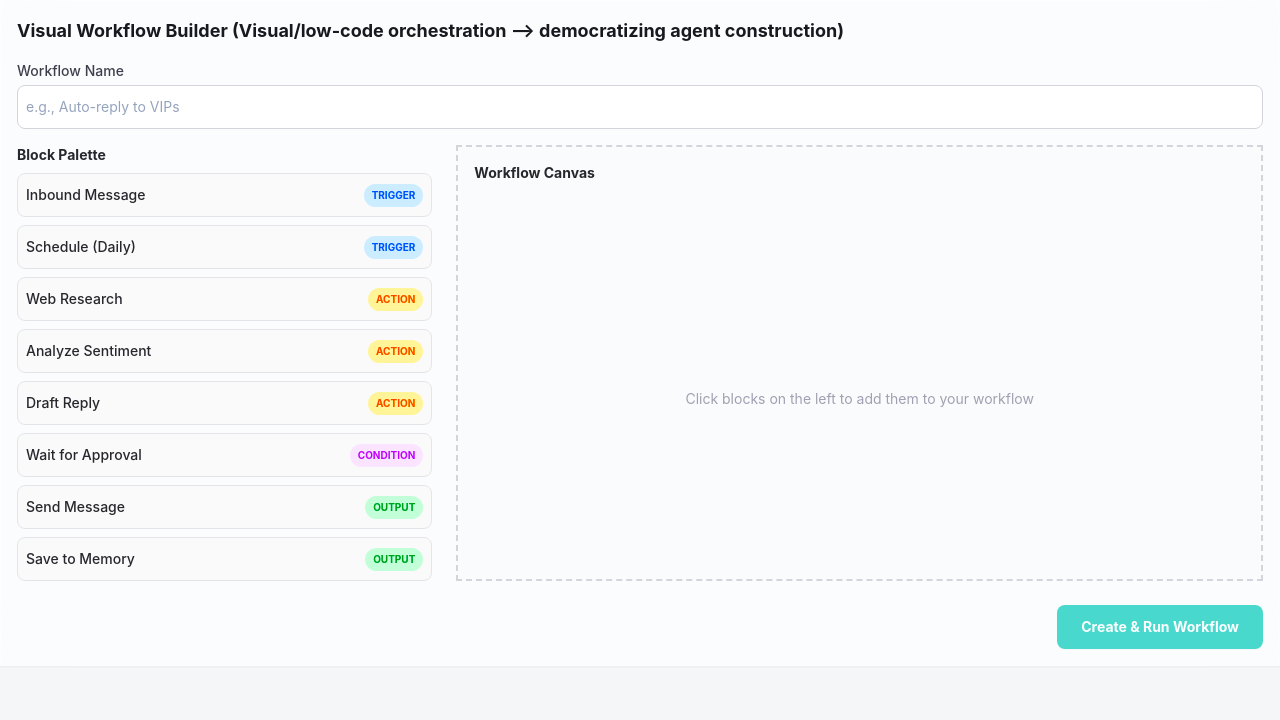
renders builder and allows adding/removing blocks
Later steps or results of the test are not shown.
Check: the text "Click blocks on the left to add them to your workflow" is shown, box [685,390,1034,407]
# Type workflow name
Type "My Workflow" into the field with placeholder "e.g., Auto-reply to VIPs" at coordinates (640, 107), box [17,85,1263,129]
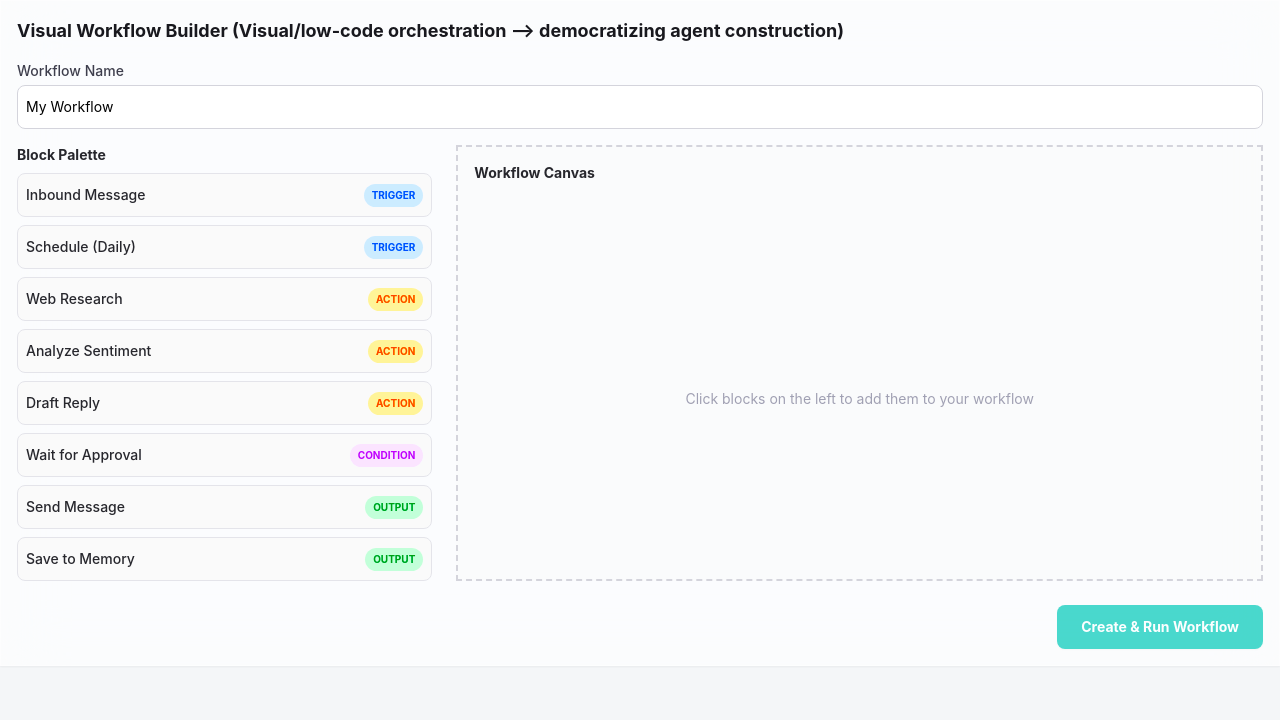
# Click palette blocks
Click the button with test id "palette-block-trigger_message" at coordinates (86, 194), box [17,173,432,217]
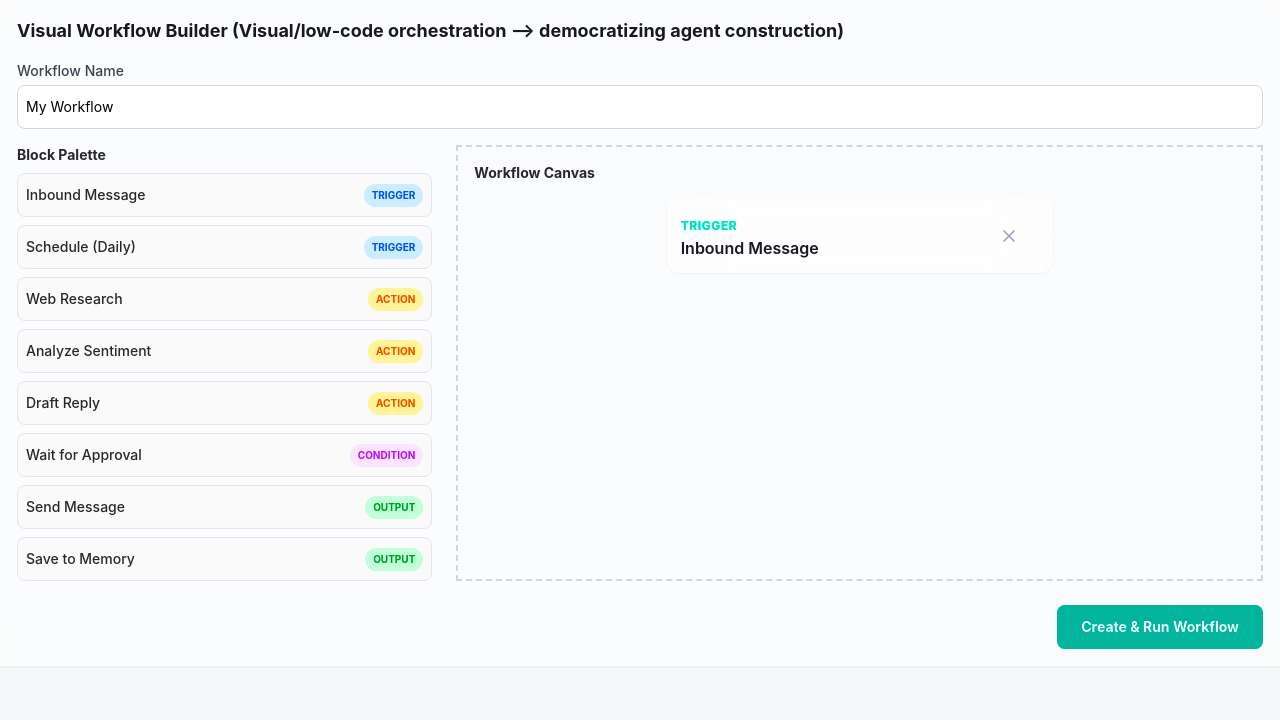
Click the button with test id "palette-block-action_analyze" at coordinates (89, 350), box [17,329,432,373]
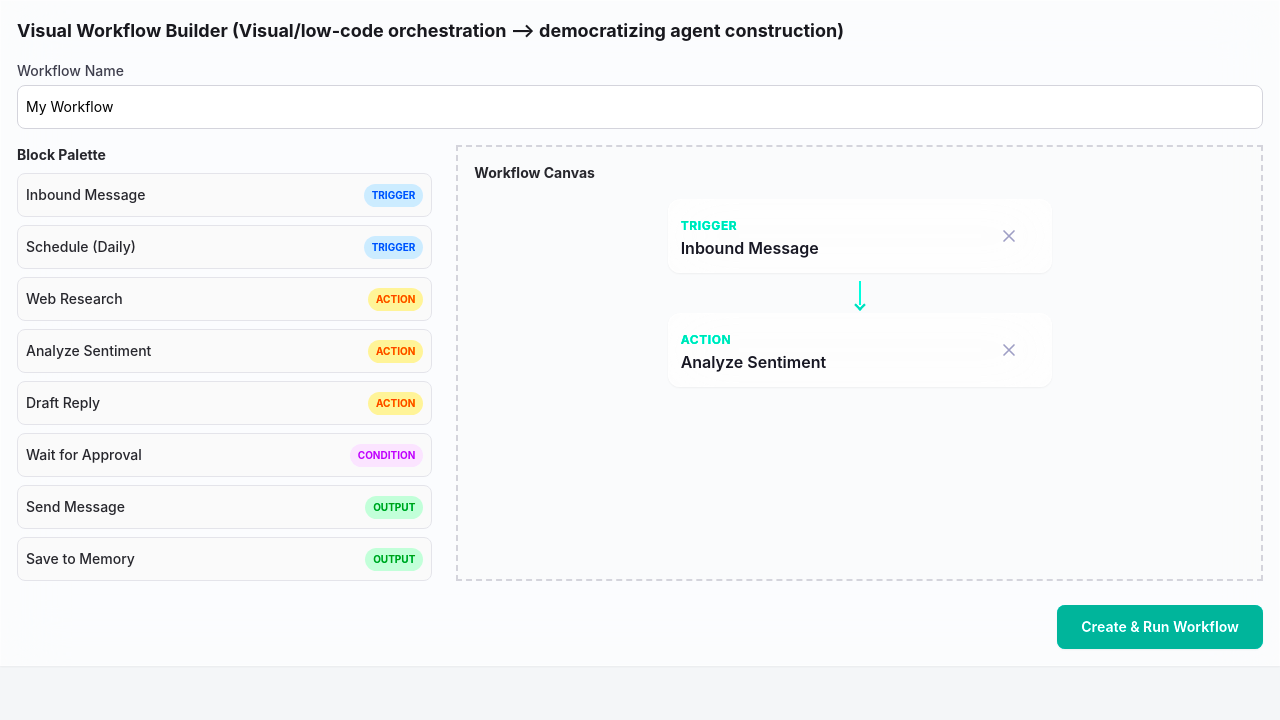
Check: the element with test id "canvas-block-0" is shown, box [668,199,1052,273]
Check: the element with test id "canvas-block-1" is shown, box [668,313,1052,387]
